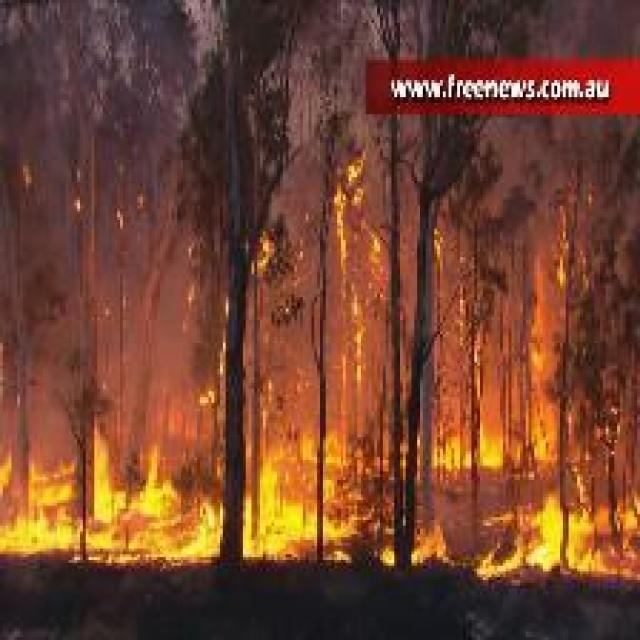Fire: (0, 414, 223, 552), (477, 487, 640, 579), (244, 430, 359, 553), (336, 144, 382, 262), (434, 418, 509, 466)
